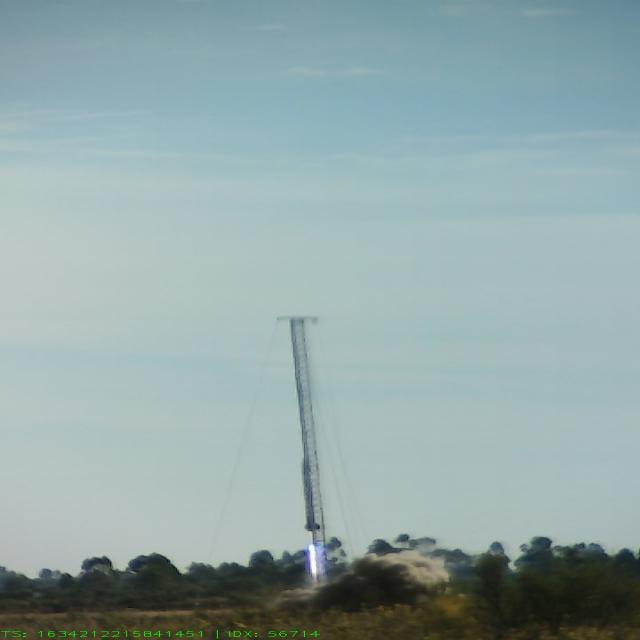Rocket: (302, 459, 320, 531)
